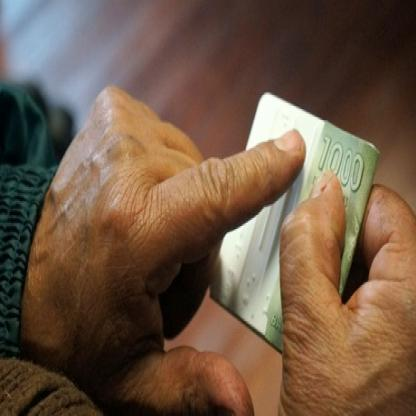billete: (208, 90, 377, 354)
